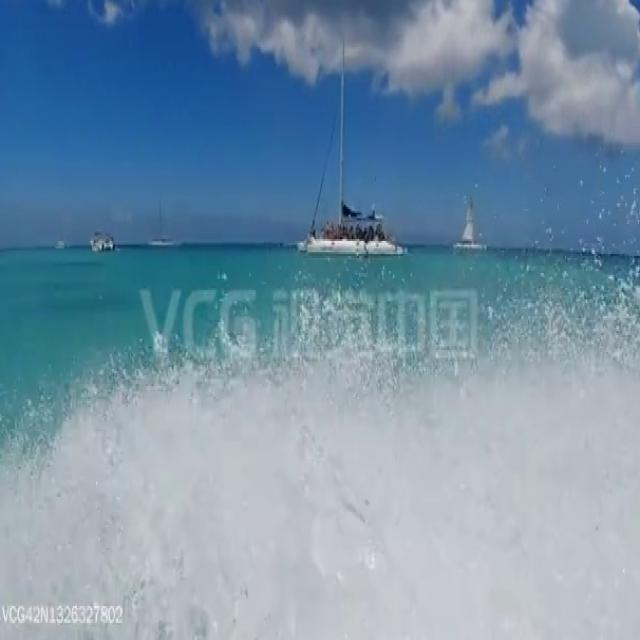houseboat: (88, 231, 114, 253)
sailboat: (304, 33, 404, 261), (455, 190, 486, 255), (145, 199, 182, 251)
